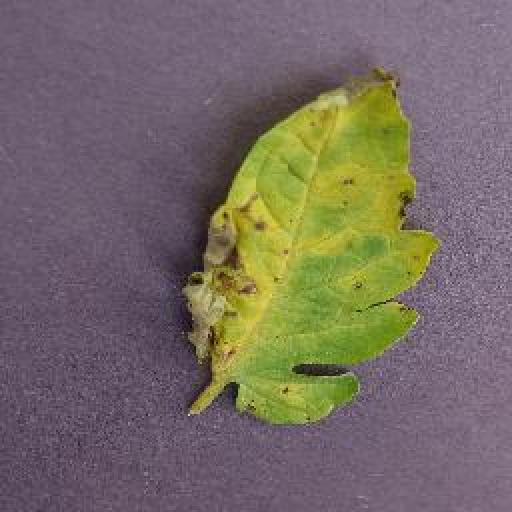disease_tomato: (183, 68, 447, 425)
